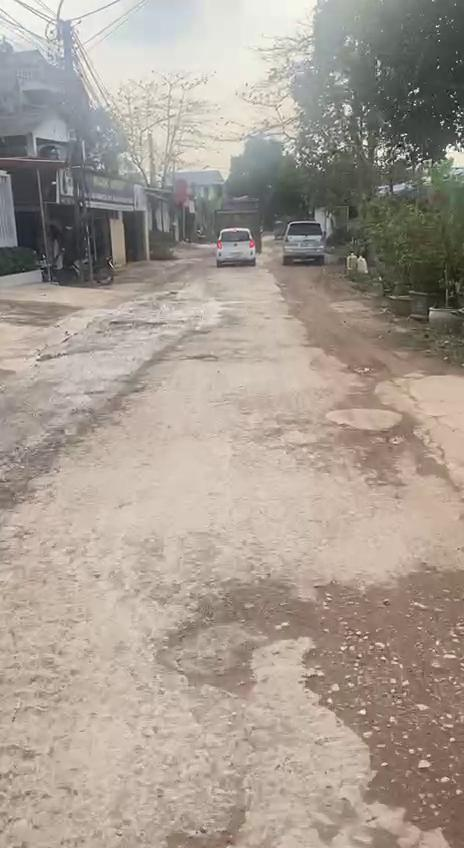pothole: (302, 576, 464, 848), (144, 570, 296, 692)
